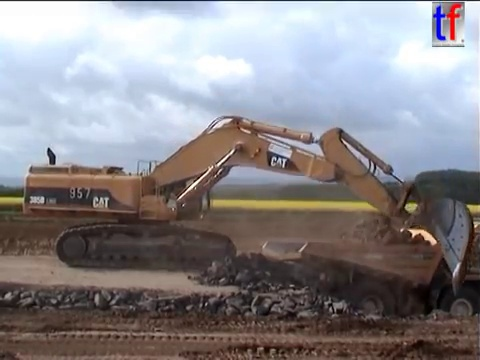excavator: (20, 113, 477, 300)
truck: (259, 217, 480, 341)
